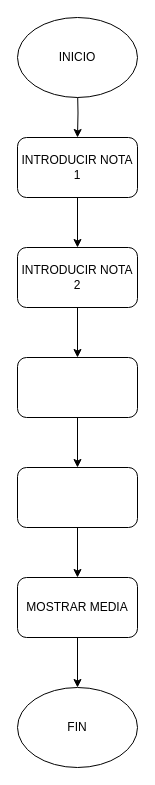
Some shapes in this 155 by 785 pixel diagram are drawn without their labels. The centre of each missing label's shape, as x and y in pixels:
INTRODUCIR NOTA 3: the point at 77,387
MEDIA = (NOTA1 + NOTA2 + NOTA3) / 3: the point at 77,497
